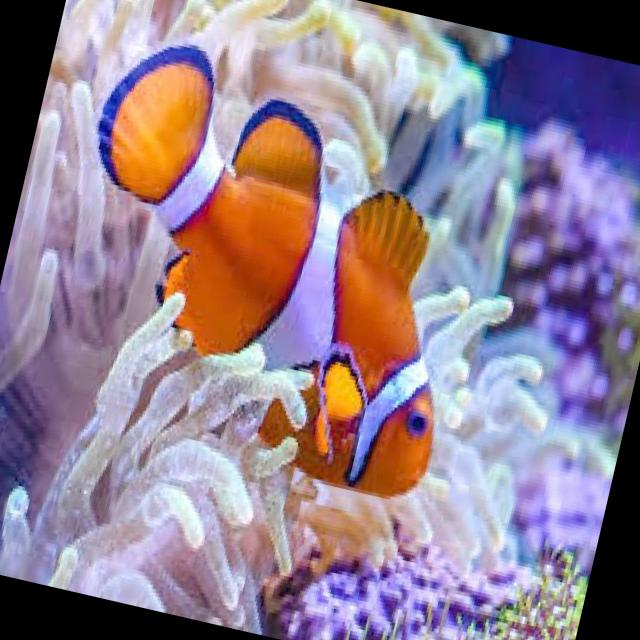ClownFish: (22, 24, 510, 505)
